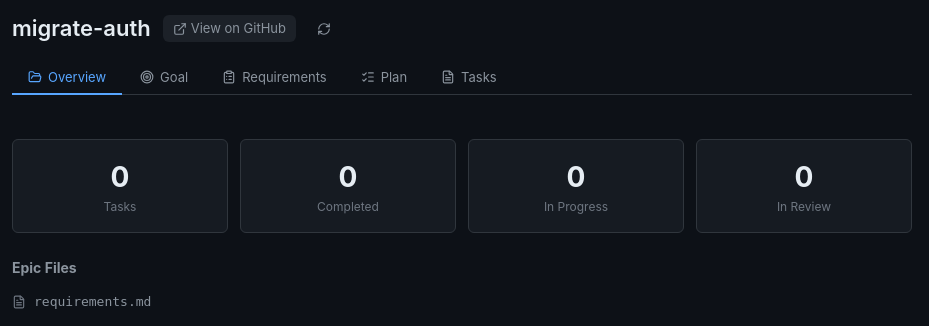
Test: EpicDetail › switches to requirements tab
Click the button with test id "tab-requirements".
click(274, 78)  # box [206,61,343,95]
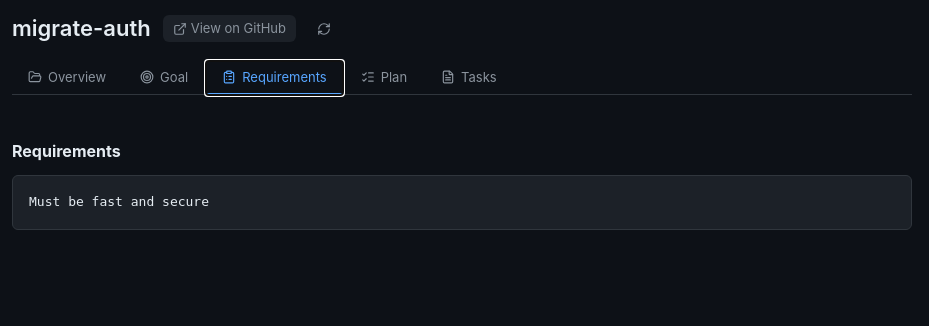
Expected: the text "Must be fast and secure" is shown, [12,175,912,230]
